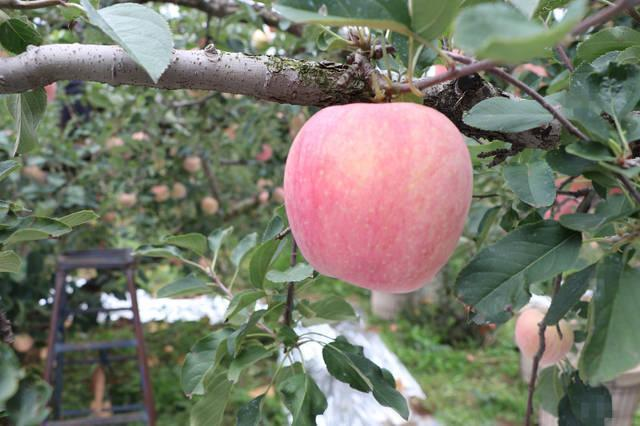apple: (280, 102, 472, 295), (511, 307, 573, 364)
